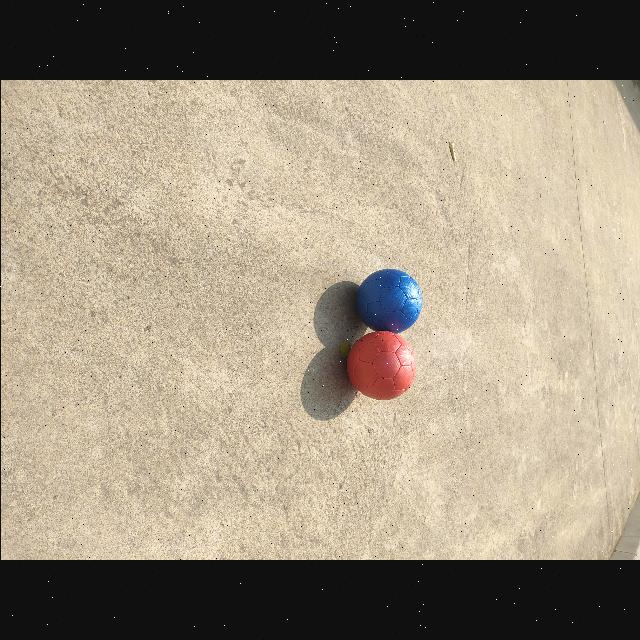B: (356, 270, 421, 334)
R: (346, 330, 415, 400)
